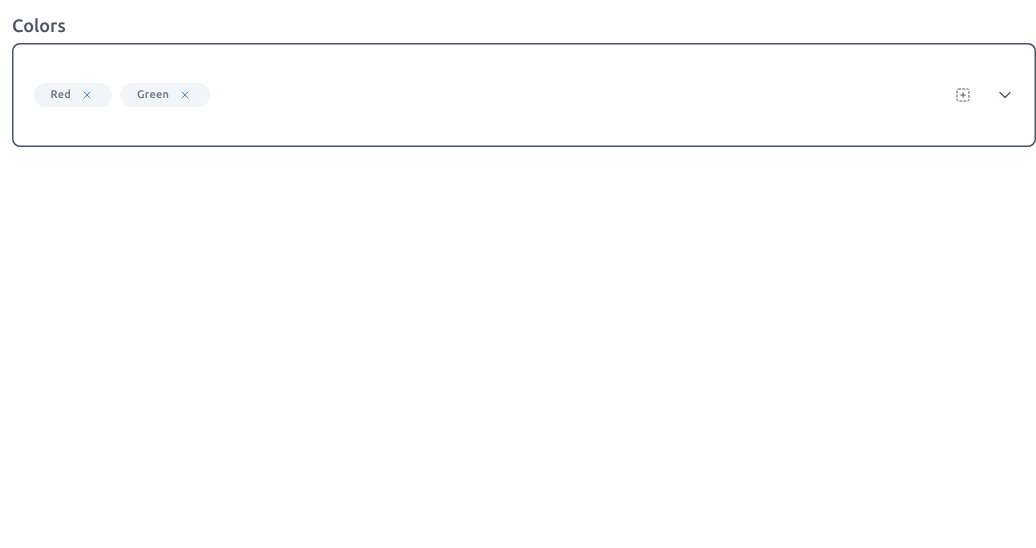
Test: FlowMultiSelect — interaction › shows selected count in the footer
The image size is (1036, 548).
Click the dropdown.
click(524, 95)  # box [12,43,1035,147]
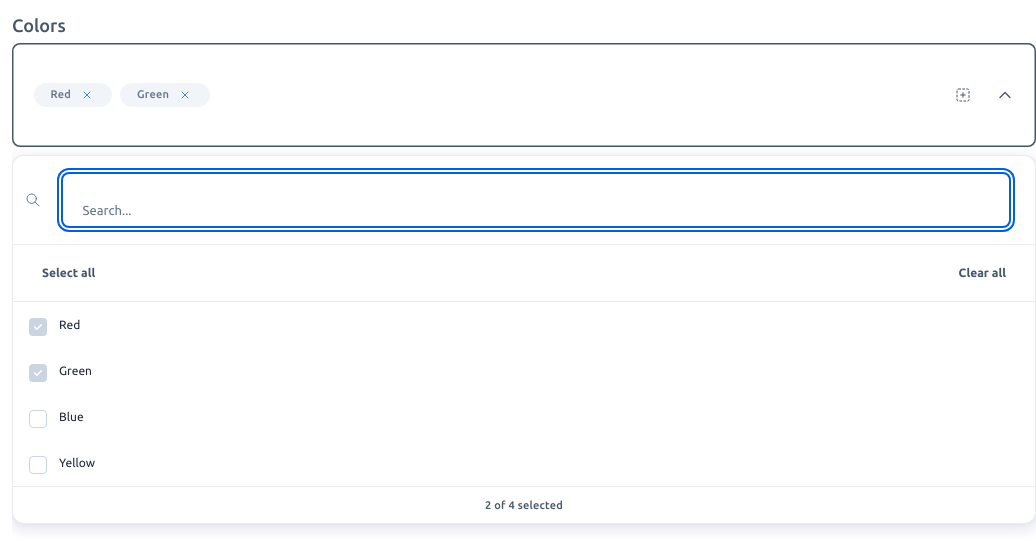
Now the text "2 of 4 selected" is shown, box [485,499,563,511]
